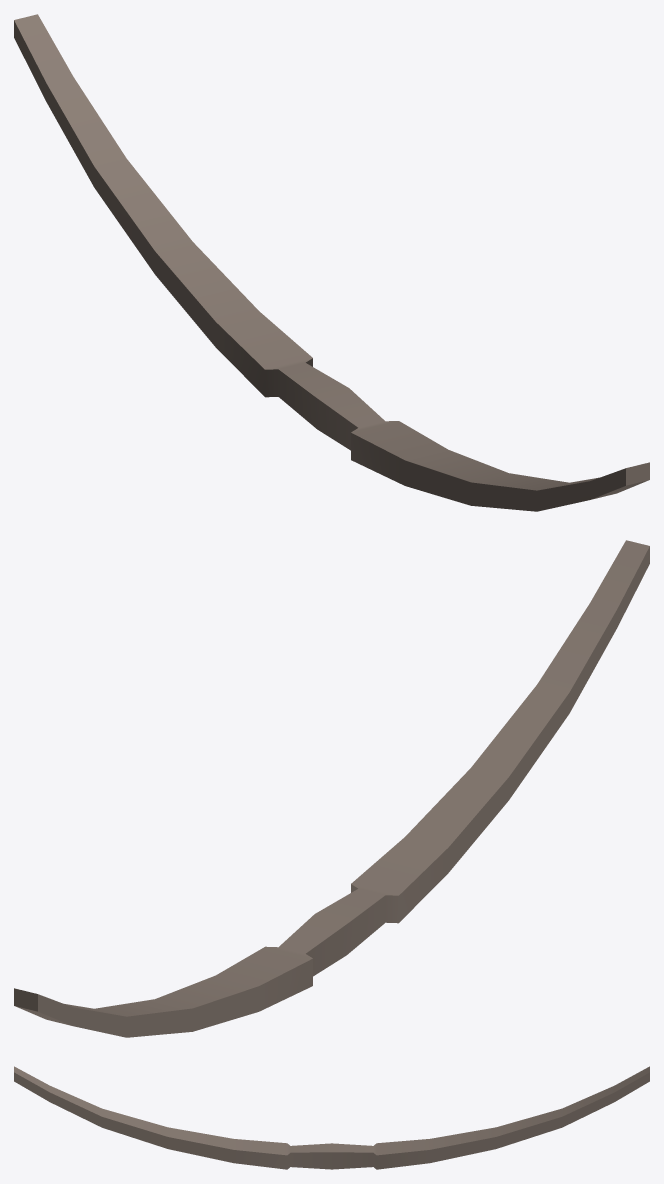
Rendered from bow.fbx.
3 views of the same model, one above another, from view 1: azimuth 30°, elevation 25°; view 2: azimuth 150°, elevation 25°; view 3: azimuth 270°, elevation 25° (orthographic). The views are drawn at different scales.
Visible parts, largest first — view 1: bow_mesh; view 2: bow_mesh; view 3: bow_mesh.
Boxes of the visible parts, x1=… form: bow_mesh: x1=14, y1=14, x2=649, y2=511; bow_mesh: x1=14, y1=540, x2=649, y2=1037; bow_mesh: x1=14, y1=1066, x2=649, y2=1169.
Size of the model in its own units: 0.7428 by 2.73 by 16.4.
1 material, 1 textured.
